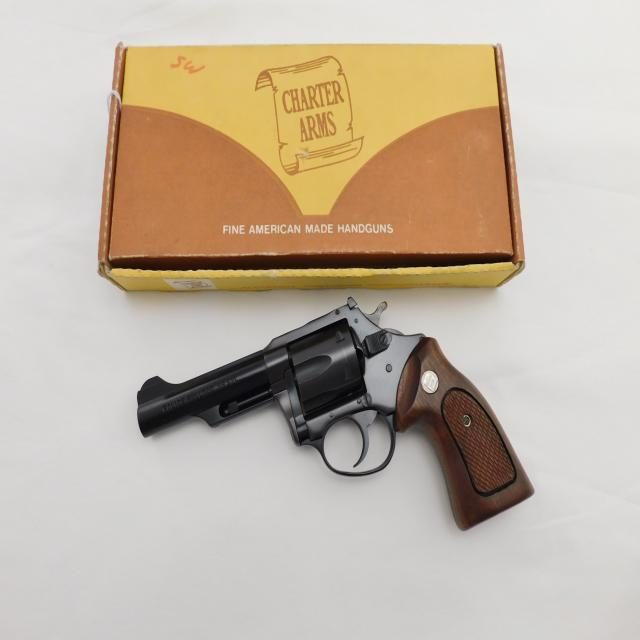Gun: (115, 326, 578, 564)
